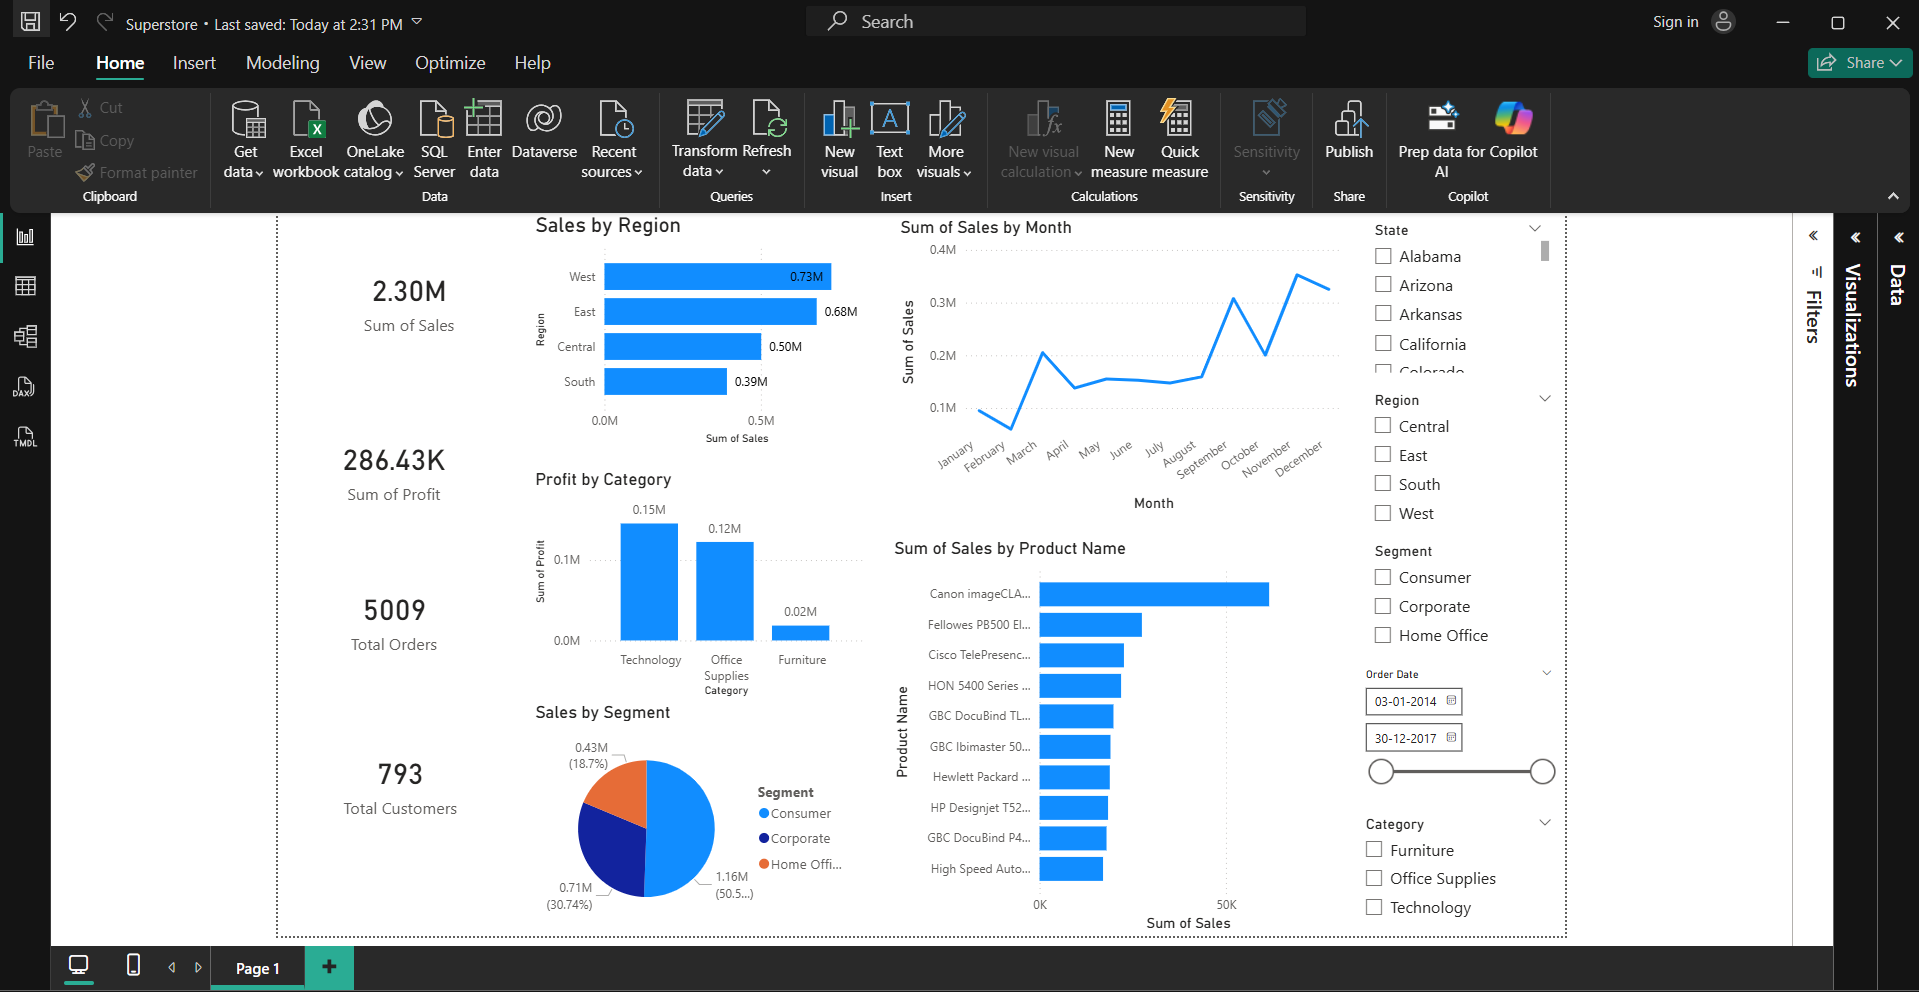

This screenshot's page, from the dashboard's own definition file:
{"tool":"powerbi","page":{"name":"Page 1","canvas":[1280,720],"ordinal":0},"visuals":[{"type":"card","fields":{"Values":["Sum(Cleaned_Sample_Superstore_Dtata.Sales)"]},"box":[9.6,0,241.5,172.9],"z":0},{"type":"card","fields":{"Values":["Sum(Cleaned_Sample_Superstore_Dtata.Profit)"]},"box":[9.6,172.9,211.3,163.3],"z":1000},{"type":"card","fields":{"Values":["Cleaned_Sample_Superstore_Dtata.Total Orders"]},"box":[9.6,323.8,211.3,161.9],"z":2000},{"type":"card","fields":{"Values":["Cleaned_Sample_Superstore_Dtata.Total Customers"]},"box":[22,485.8,199,164.7],"z":3000},{"type":"clusteredBarChart","title":"Sales by Region","fields":{"Y":["Sum(Cleaned_Sample_Superstore_Dtata.Sales)"],"Category":["Cleaned_Sample_Superstore_Dtata.Region"]},"box":[251.3,0,357,235.1],"z":4000},{"type":"clusteredColumnChart","title":" Profit by Category","fields":{"Y":["Sum(Cleaned_Sample_Superstore_Dtata.Profit)"],"Category":["Cleaned_Sample_Superstore_Dtata.Category"]},"box":[251.3,255,335.9,231.4],"z":5000},{"type":"pieChart","title":"Sales by Segment","fields":{"Y":["Sum(Cleaned_Sample_Superstore_Dtata.Sales)"],"Category":["Cleaned_Sample_Superstore_Dtata.Segment"]},"box":[251.3,486.4,327.2,233.9],"z":6000},{"type":"lineChart","fields":{"Category":["Cleaned_Sample_Superstore_Dtata.Month.Variation.Date Hierarchy.Month"],"Y":["Sum(Cleaned_Sample_Superstore_Dtata.Sales)"]},"box":[614.5,3.7,449.1,298.6],"z":7000},{"type":"clusteredBarChart","fields":{"Category":["Cleaned_Sample_Superstore_Dtata.Product Name"],"Y":["Sum(Cleaned_Sample_Superstore_Dtata.Sales)"]},"box":[608.3,323.4,461.5,396.8],"z":8000},{"type":"slicer","fields":{"Values":["Cleaned_Sample_Superstore_Dtata.Region"]},"box":[1078.5,172.9,201.5,150.5],"z":9000},{"type":"slicer","fields":{"Values":["Cleaned_Sample_Superstore_Dtata.Category"]},"box":[1069.8,594.6,210.2,125.6],"z":10000},{"type":"slicer","fields":{"Values":["Cleaned_Sample_Superstore_Dtata.Segment"]},"box":[1078.5,323.4,191.6,124.4],"z":11000},{"type":"slicer","fields":{"Values":["Cleaned_Sample_Superstore_Dtata.Order Date"]},"box":[1069.8,447.8,210.2,146.8],"z":12000},{"type":"slicer","fields":{"Values":["Cleaned_Sample_Superstore_Dtata.State"]},"box":[1078.5,3.7,191.6,160.5],"z":13000}]}

Visuals, with their boxes on the page's 1280x720 design canvas (x1, y1, x2, y2). These are canvas units, not pixel positions in the 1919x992 screenshot, which may show the page scaled, cropped or inside an application window:
card - Sum(Cleaned_Sample_Superstore_Dtata.Sales): BBox(10, 0, 251, 173)
card - Sum(Cleaned_Sample_Superstore_Dtata.Profit): BBox(10, 173, 221, 336)
card - Cleaned_Sample_Superstore_Dtata.Total Orders: BBox(10, 324, 221, 486)
card - Cleaned_Sample_Superstore_Dtata.Total Customers: BBox(22, 486, 221, 650)
"Sales by Region" clusteredBarChart: BBox(251, 0, 608, 235)
" Profit by Category" clusteredColumnChart: BBox(251, 255, 587, 486)
"Sales by Segment" pieChart: BBox(251, 486, 578, 720)
lineChart - Cleaned_Sample_Superstore_Dtata.Month.Variation.Date Hierarchy.Month x Sum(Cleaned_Sample_Superstore_Dtata.Sales): BBox(614, 4, 1064, 302)
clusteredBarChart - Cleaned_Sample_Superstore_Dtata.Product Name x Sum(Cleaned_Sample_Superstore_Dtata.Sales): BBox(608, 323, 1070, 720)
slicer - Cleaned_Sample_Superstore_Dtata.Region: BBox(1078, 173, 1280, 323)
slicer - Cleaned_Sample_Superstore_Dtata.Category: BBox(1070, 595, 1280, 720)
slicer - Cleaned_Sample_Superstore_Dtata.Segment: BBox(1078, 323, 1270, 448)
slicer - Cleaned_Sample_Superstore_Dtata.Order Date: BBox(1070, 448, 1280, 595)
slicer - Cleaned_Sample_Superstore_Dtata.State: BBox(1078, 4, 1270, 164)
